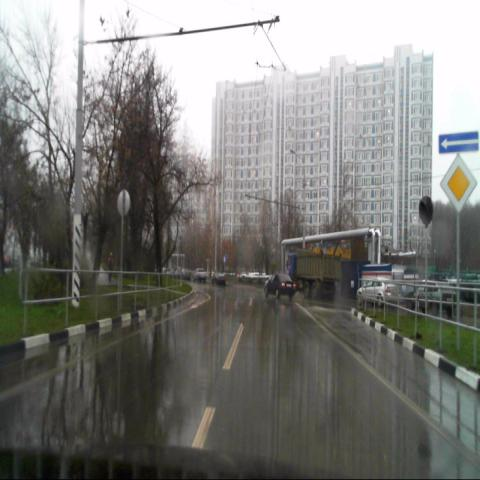5_7_2: (438, 131, 480, 153)
